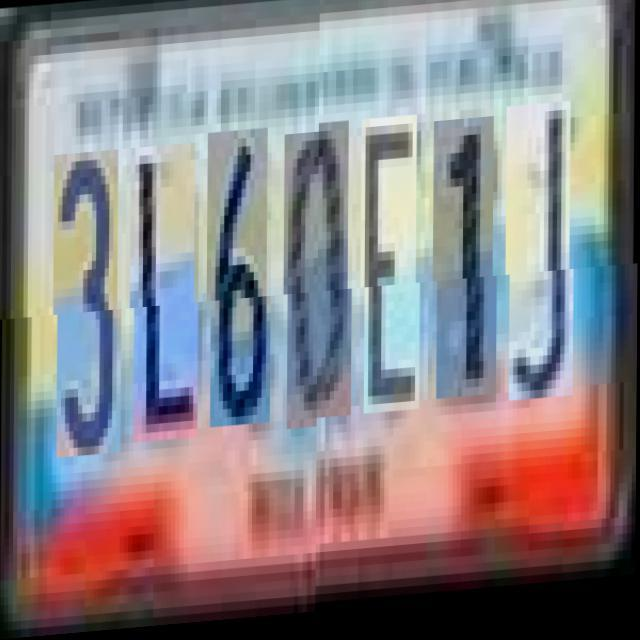1: (437, 134, 498, 416)
3: (56, 152, 122, 458)
6: (211, 132, 272, 432)
E: (364, 131, 421, 429)
J: (509, 120, 575, 419)
L: (133, 146, 200, 445)
O: (287, 136, 353, 434)
